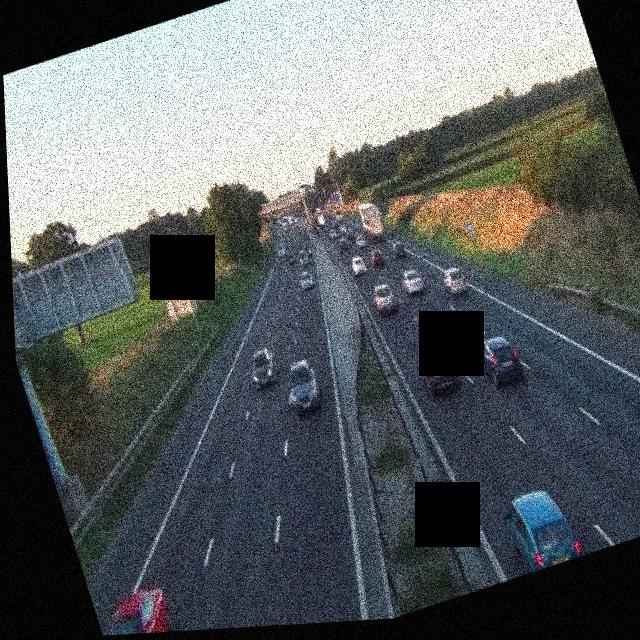car: (498, 479, 584, 576), (92, 581, 189, 636), (473, 328, 526, 389), (412, 335, 461, 398), (279, 357, 327, 417), (245, 344, 281, 389), (439, 265, 469, 300), (370, 280, 399, 316), (399, 265, 427, 297), (349, 252, 368, 276), (297, 267, 316, 291), (367, 245, 385, 267), (390, 238, 407, 259), (354, 233, 368, 250), (337, 236, 351, 253), (301, 246, 313, 262), (284, 250, 297, 264), (275, 242, 287, 257)
truck: (355, 198, 387, 244)
